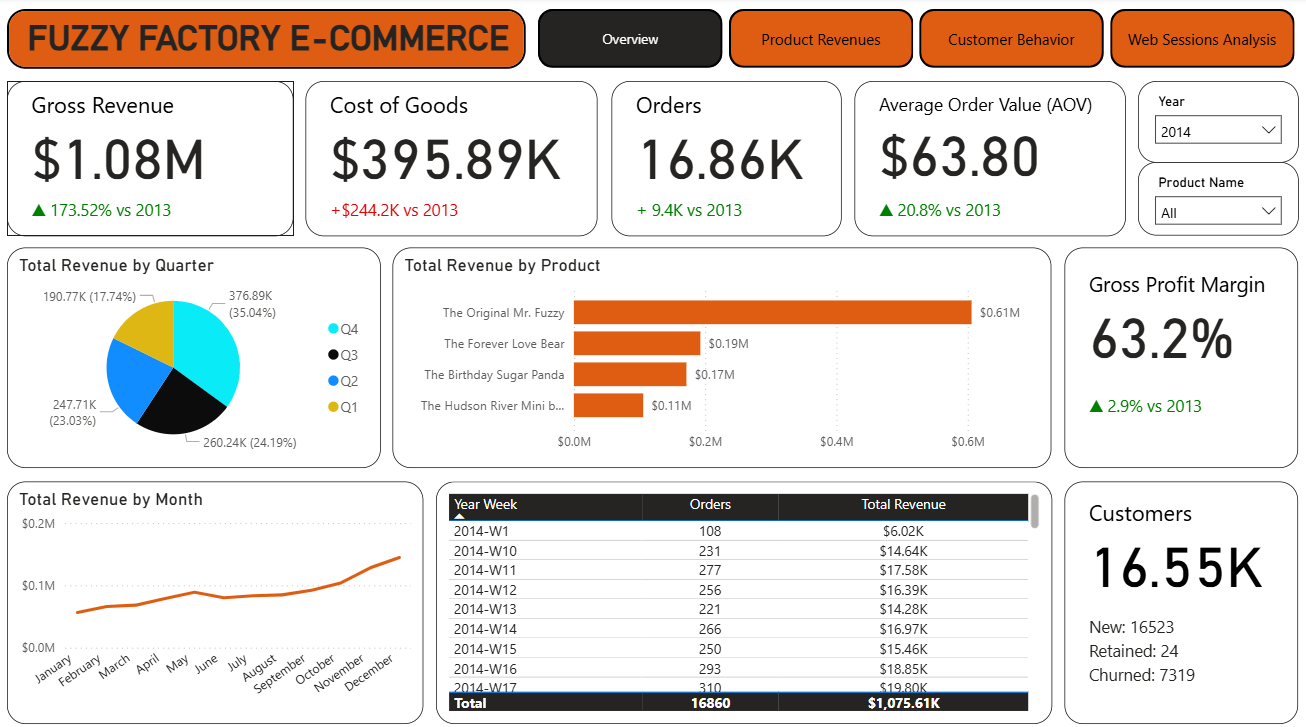

The page's visual inventory and layout, read from the dashboard file:
{"tool":"powerbi","page":{"name":"Overview","canvas":[1280,720],"ordinal":0},"visuals":[{"type":"cardVisual","fields":{"Data":["_Measures.Total Revenue"]},"box":[14.9,81.2,278.3,150.7],"z":0},{"type":"cardVisual","fields":{"Data":["_Measures.Orders"]},"box":[601.3,81.2,223.6,150.7],"z":1000},{"type":"cardVisual","fields":{"Data":["_Measures.Average Order Value (AOV)"]},"box":[836.5,81.2,263.4,150.7],"z":2000},{"type":"cardVisual","fields":{"Data":["_Measures.Cost of Goods"]},"box":[304.8,81.2,283.3,150.7],"z":3000},{"type":"cardVisual","fields":{"Data":["_Measures.Gross Profit Margin"]},"box":[1040.3,243.5,226.9,213.7],"z":4000},{"type":"lineChart","fields":{"Y":["_Measures.Total Revenue"],"Category":["Date.Month"]},"box":[14.9,470.4,404.2,235.2],"z":5000},{"type":"clusteredBarChart","title":"Total Revenue by Product","fields":{"Category":["products.product_name"],"Y":["_Measures.Total Revenue"]},"box":[389.3,243.5,639.4,213.7],"z":6000},{"type":"slicer","fields":{"Values":["Date.Year"]},"box":[1111.5,81.2,155.7,79.5],"z":7000},{"type":"slicer","fields":{"Values":["products.product_name"]},"box":[1111.5,160.7,155.7,71.2],"z":8000},{"type":"pieChart","fields":{"Y":["_Measures.Total Revenue"],"Category":["Date.Quarter"]},"box":[14.9,243.5,362.8,213.7],"z":9000},{"type":"tableEx","fields":{"Values":["Date.Year Week","_Measures.Orders","_Measures.Total Revenue"]},"box":[430.7,470.4,598,235.2],"z":10000},{"type":"cardVisual","fields":{"Data":["_Measures.Customers"]},"box":[1040.3,470.4,226.9,235.2],"z":11000},{"type":"pageNavigator","box":[530.1,11.6,737.1,58],"z":12000},{"type":"textbox","title":"FUZZY FACTORY E-COMMERCE","box":[14.9,11.6,503.6,58],"z":13000}]}

Visuals, with their boxes in screenshot pixels (x1, y1, x2, y2), scaled from the page's 1280x720 canvas onto the 1306x727 screenshot:
cardVisual - _Measures.Total Revenue: {"x1": 15, "y1": 82, "x2": 299, "y2": 234}
cardVisual - _Measures.Orders: {"x1": 614, "y1": 82, "x2": 842, "y2": 234}
cardVisual - _Measures.Average Order Value (AOV): {"x1": 853, "y1": 82, "x2": 1122, "y2": 234}
cardVisual - _Measures.Cost of Goods: {"x1": 311, "y1": 82, "x2": 600, "y2": 234}
cardVisual - _Measures.Gross Profit Margin: {"x1": 1061, "y1": 246, "x2": 1293, "y2": 462}
lineChart - _Measures.Total Revenue x Date.Month: {"x1": 15, "y1": 475, "x2": 428, "y2": 712}
"Total Revenue by Product" clusteredBarChart: {"x1": 397, "y1": 246, "x2": 1050, "y2": 462}
slicer - Date.Year: {"x1": 1134, "y1": 82, "x2": 1293, "y2": 162}
slicer - products.product_name: {"x1": 1134, "y1": 162, "x2": 1293, "y2": 234}
pieChart - _Measures.Total Revenue x Date.Quarter: {"x1": 15, "y1": 246, "x2": 385, "y2": 462}
tableEx - Date.Year Week x _Measures.Orders: {"x1": 439, "y1": 475, "x2": 1050, "y2": 712}
cardVisual - _Measures.Customers: {"x1": 1061, "y1": 475, "x2": 1293, "y2": 712}
pageNavigator: {"x1": 541, "y1": 12, "x2": 1293, "y2": 70}
"FUZZY FACTORY E-COMMERCE" textbox: {"x1": 15, "y1": 12, "x2": 529, "y2": 70}
